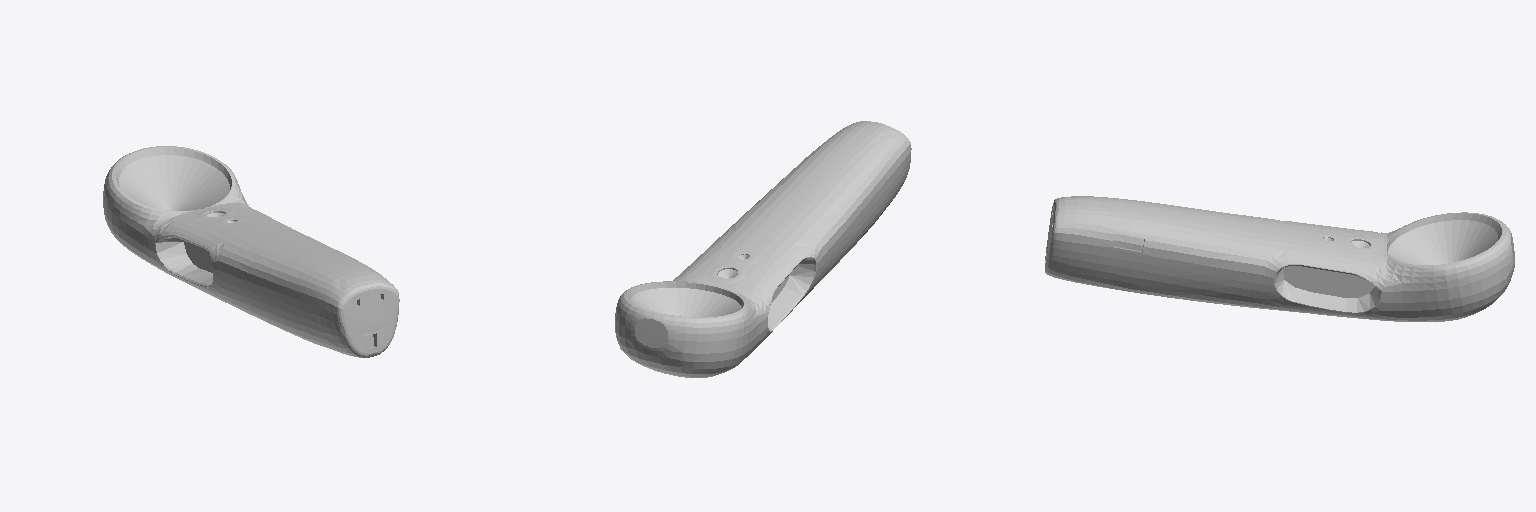
The model's file is vr_controller_05_wireless_b_body.obj.
3 renders of one model, left to right at view 1: azimuth 30°, elevation 25°; view 2: azimuth 150°, elevation 25°; view 3: azimuth 270°, elevation 25°, orthographic.
Parts seen in each view (by area): view 1: body group1; view 2: body group1; view 3: body group1.
Boxes of the visible parts, x1,y1,x2,y2 form: body group1: [103, 146, 399, 357]; body group1: [615, 121, 911, 377]; body group1: [1045, 196, 1514, 321].
Bounding box in the file's own units: 0.05 × 0.0424 × 0.17.